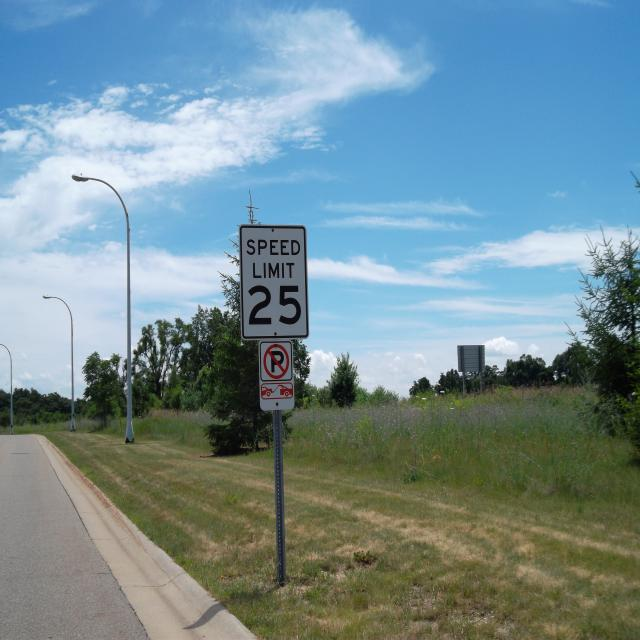regulatory: (238, 214, 311, 340)
